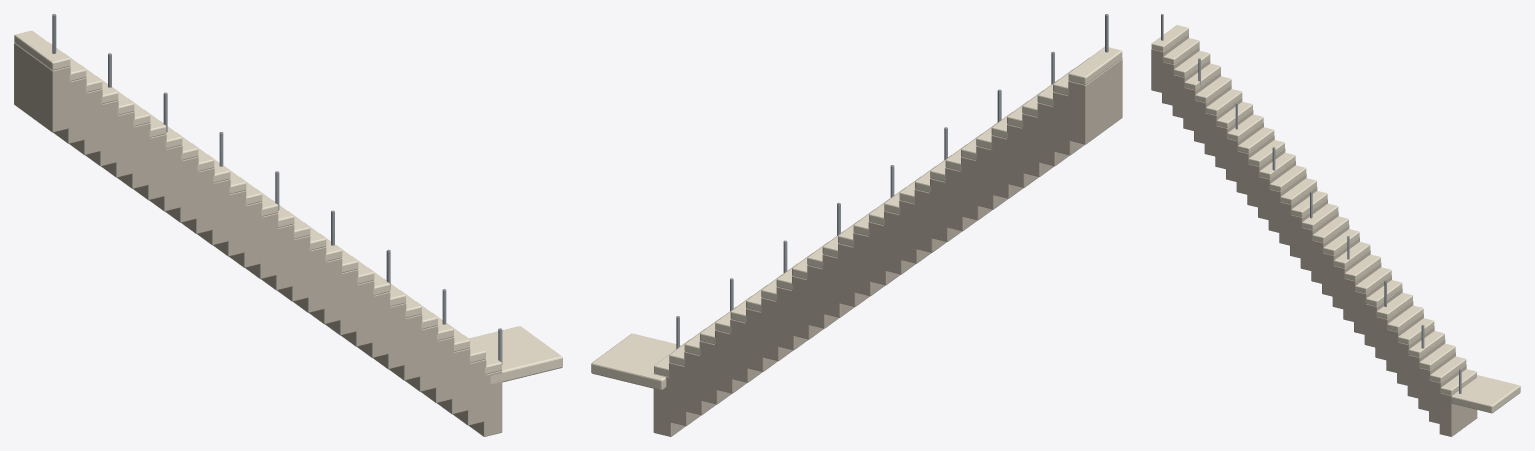
File: harbour_steps.fbx
3 views of the same model, side by side, from view 1: azimuth 30°, elevation 25°; view 2: azimuth 150°, elevation 25°; view 3: azimuth 330°, elevation 25° (orthographic). The views are drawn at different scales.
Visible parts, largest first — view 1: Visual; view 2: Visual; view 3: Visual.
Part boxes in pixels (x1,y1,x2,y2): Visual: [14, 14, 562, 436]; Visual: [591, 14, 1122, 436]; Visual: [1151, 14, 1520, 436].
Size of the model in its own units: 1375 by 1338 by 200.
